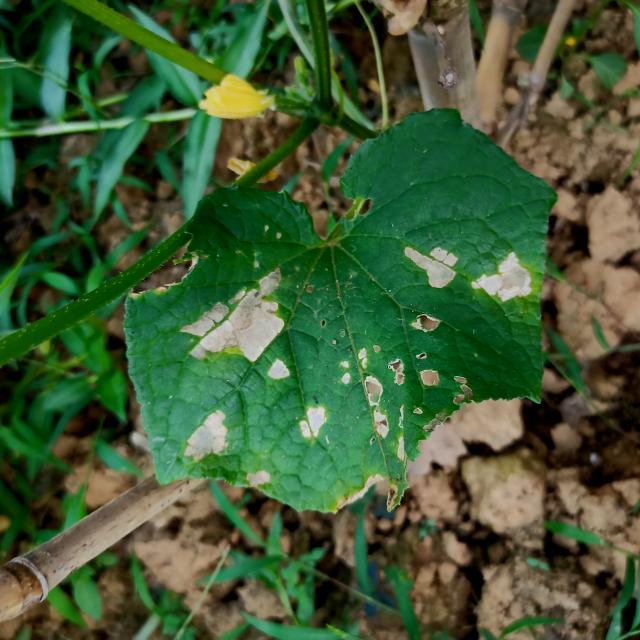disease_cucumber: (178, 266, 330, 465), (338, 309, 469, 440), (394, 231, 534, 315)
